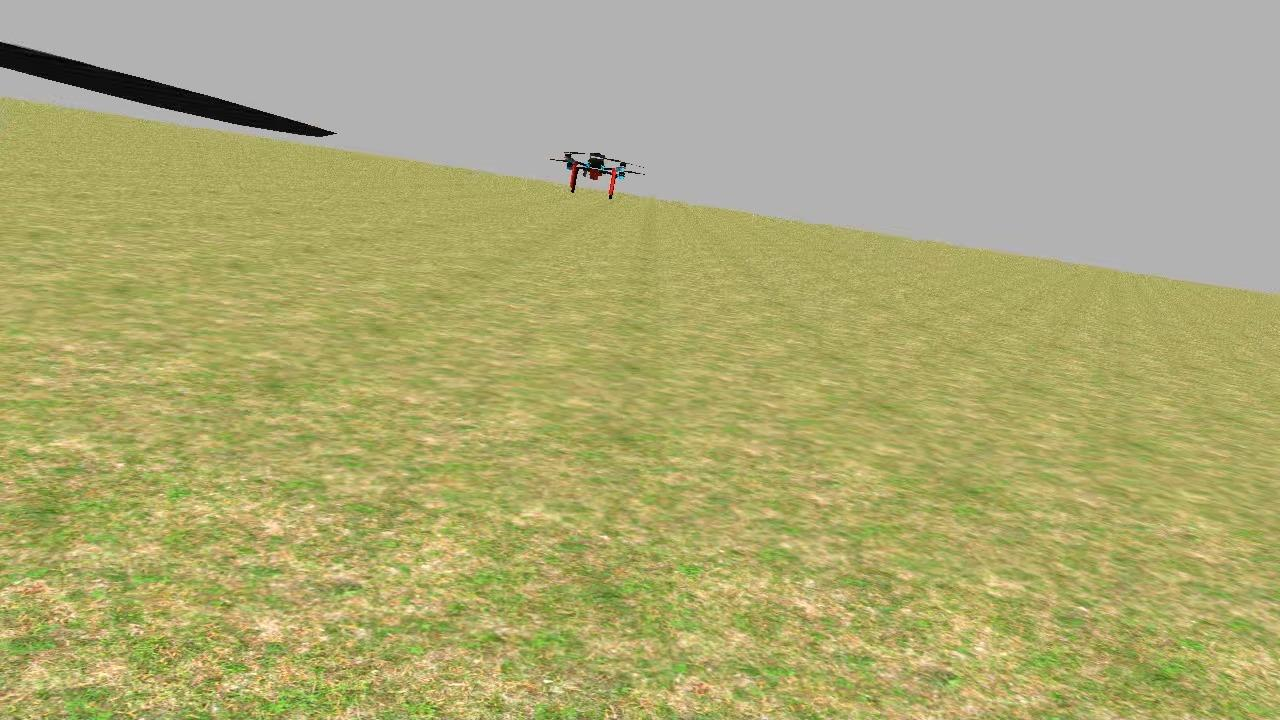UAV: (545, 135, 642, 207)
